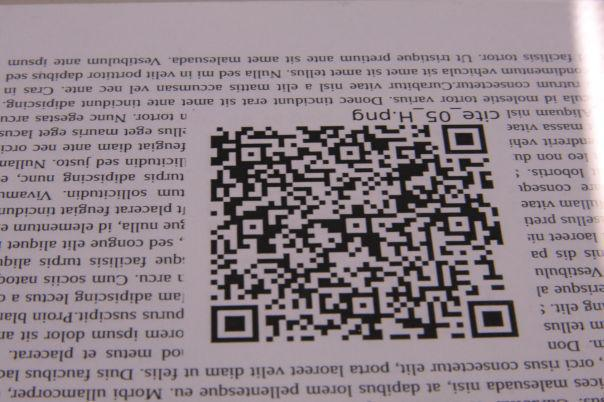Finder pattern: (464, 296, 525, 341), (206, 302, 264, 347), (439, 121, 492, 156)
